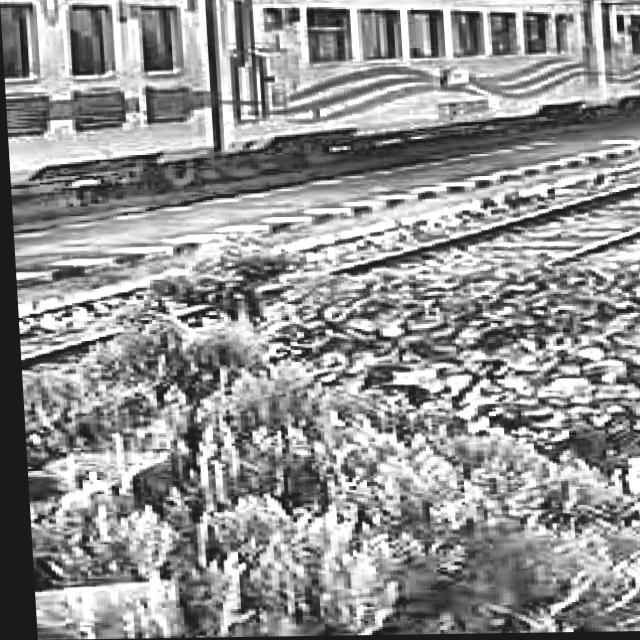Kereta: (126, 0, 619, 170), (0, 0, 232, 348), (579, 0, 640, 104)
